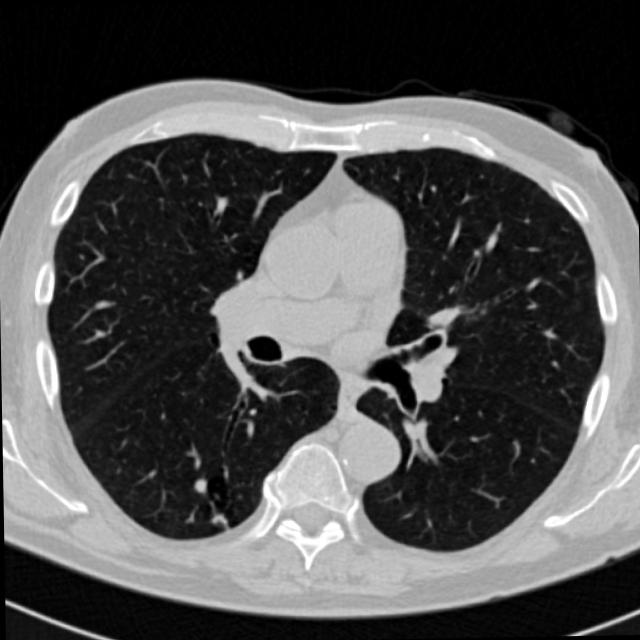nodule: (181, 467, 217, 502)
